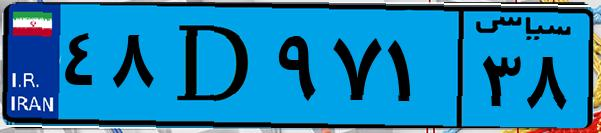1: (385, 28, 445, 110)
3: (475, 38, 525, 113)
4: (57, 26, 110, 100)
7: (330, 28, 385, 110)
8: (525, 38, 570, 115), (110, 28, 158, 98)
9: (270, 28, 330, 110)
D: (158, 12, 270, 120)
